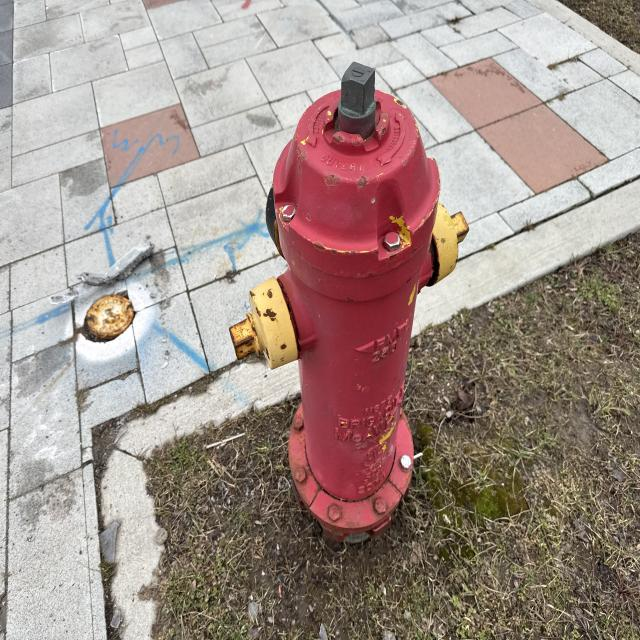Fire hydrant: (229, 59, 471, 549)
